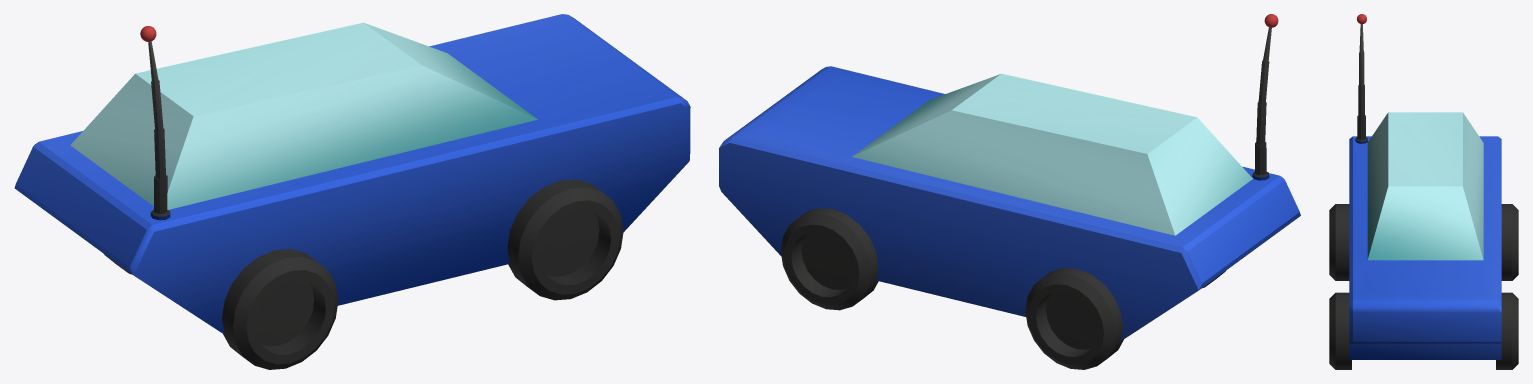
The model's file is toyCarV2.fbx.
3 views of the same model, side by side, from view 1: azimuth 30°, elevation 25°; view 2: azimuth 150°, elevation 25°; view 3: azimuth 270°, elevation 25° (orthographic). The views are drawn at different scales.
Visible parts, largest first — view 1: Car2; view 2: Car2; view 3: Car2.
Boxes of the visible parts, left/top/right/bottom form: Car2: left=14, top=14, right=690, bottom=369; Car2: left=719, top=14, right=1300, bottom=369; Car2: left=1329, top=14, right=1518, bottom=369.
Size of the model in its own units: 2.72 by 1.64 by 1.25.
1 material, 1 textured.
